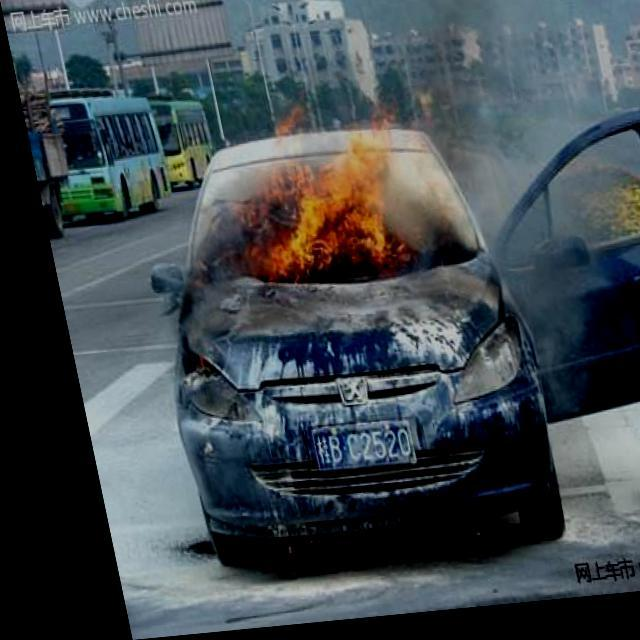Fire: (185, 111, 438, 305)
